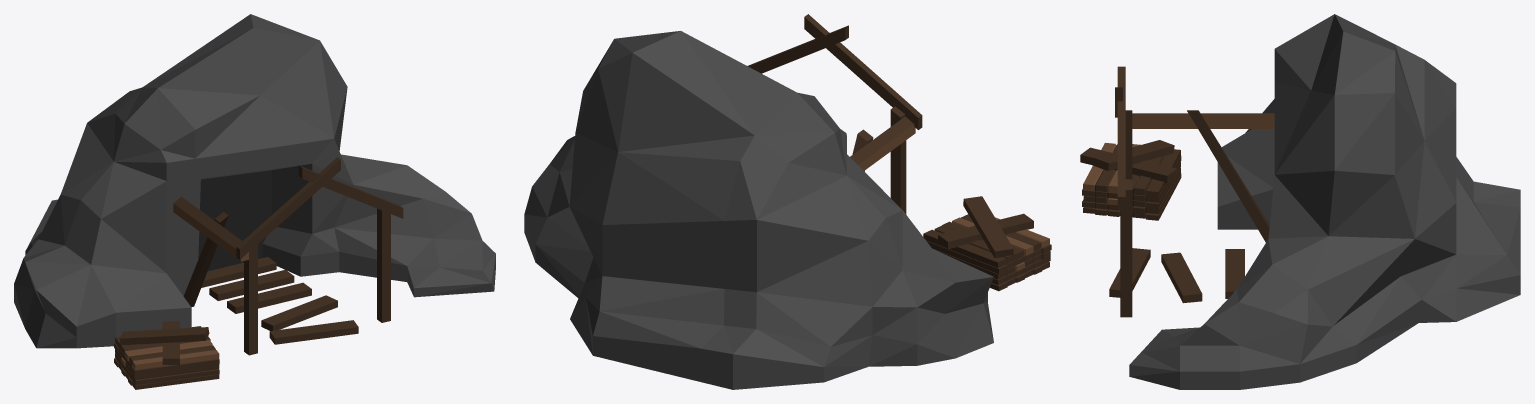
The model's file is mine_build_mat.fbx.
3 views of the same model, side by side, from view 1: azimuth 30°, elevation 25°; view 2: azimuth 150°, elevation 25°; view 3: azimuth 270°, elevation 25° (orthographic). The views are drawn at different scales.
Parts seen in each view (by area): view 1: mine_build_mat; view 2: mine_build_mat; view 3: mine_build_mat.
Part boxes in pixels (x1,y1,x2,y2): mine_build_mat: [14, 14, 495, 389]; mine_build_mat: [524, 14, 1051, 389]; mine_build_mat: [1080, 14, 1520, 389].
Bounding box in the file's own units: 588 × 320 × 470.
